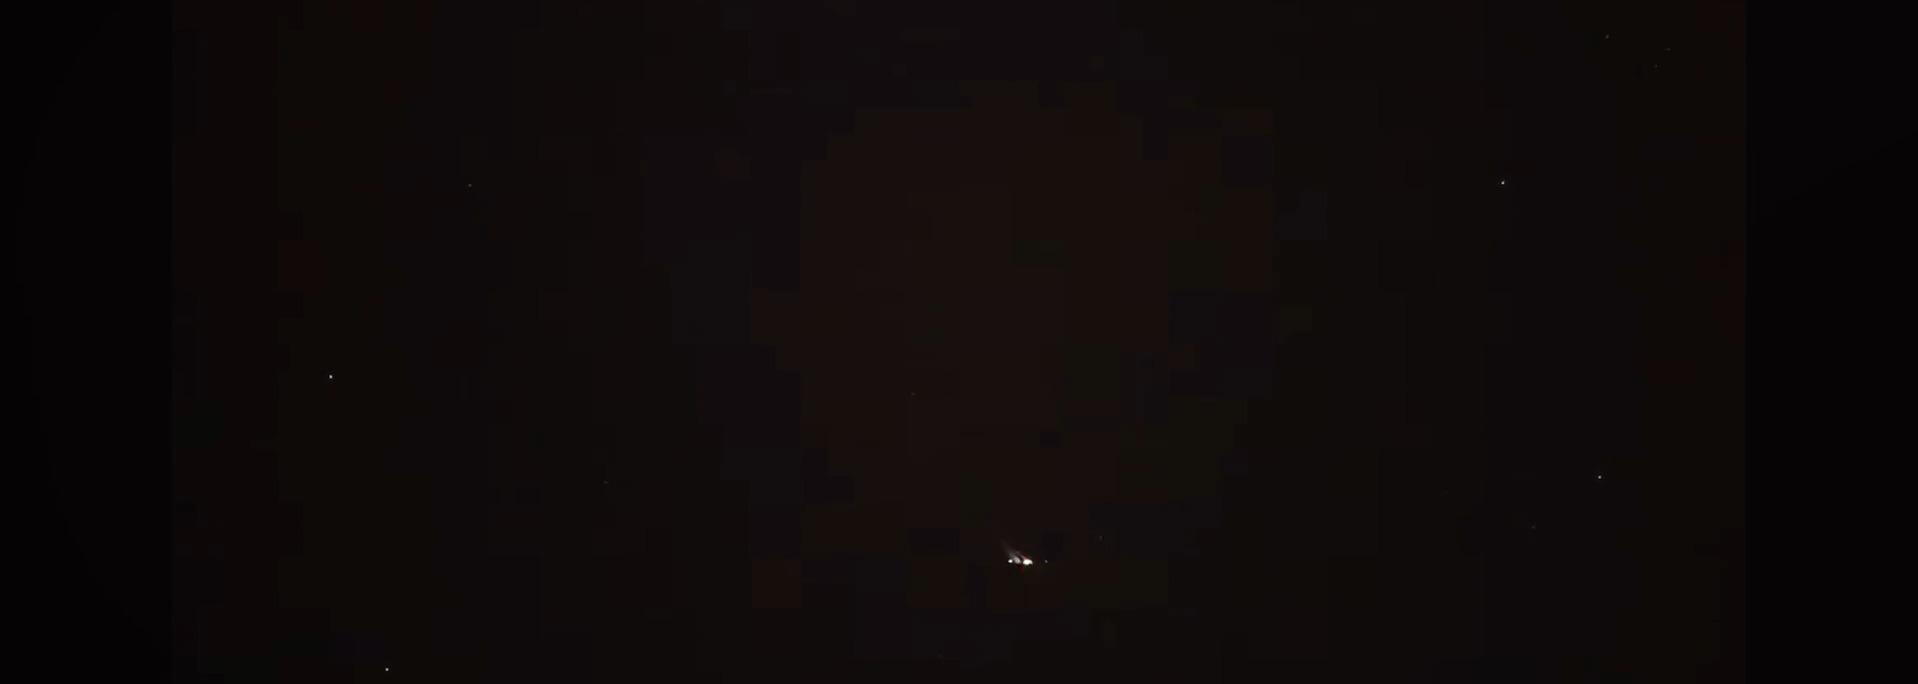Plane: (959, 538, 1076, 578)
